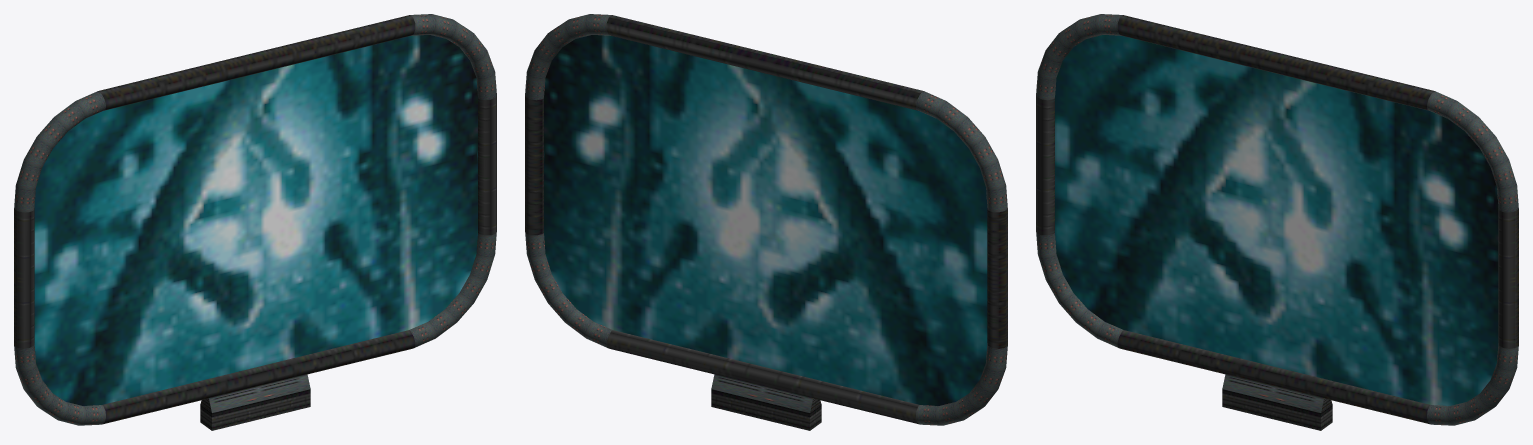
Rendered from paineltransparente4.fbx.
The picture shows the model from 3 angles, left to right: view 1: azimuth 30°, elevation 25°; view 2: azimuth 150°, elevation 25°; view 3: azimuth 330°, elevation 25°; orthographic projection.
Parts seen in each view (by area): view 1: Cube.001, Cube; view 2: Cube.001, Cube; view 3: Cube.001, Cube.
Boxes of the visible parts, <box> form: Cube.001: <box>34,35,477,405</box>; Cube: <box>14,14,496,430</box>; Cube.001: <box>544,35,987,405</box>; Cube: <box>525,14,1007,430</box>; Cube.001: <box>1055,35,1498,405</box>; Cube: <box>1036,14,1518,430</box>.
Size of the model in its own units: 2.63 by 1.89 by 0.1115.
